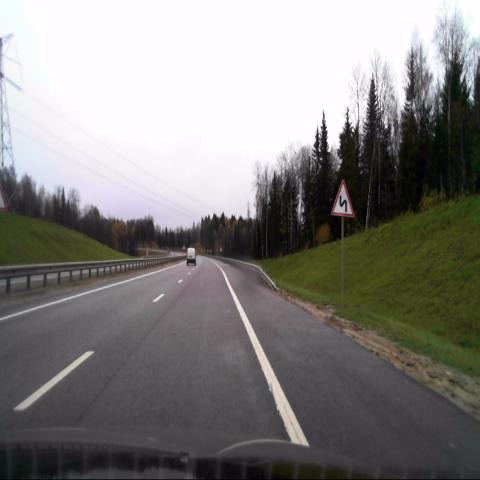1_12_2: (332, 177, 353, 218)
